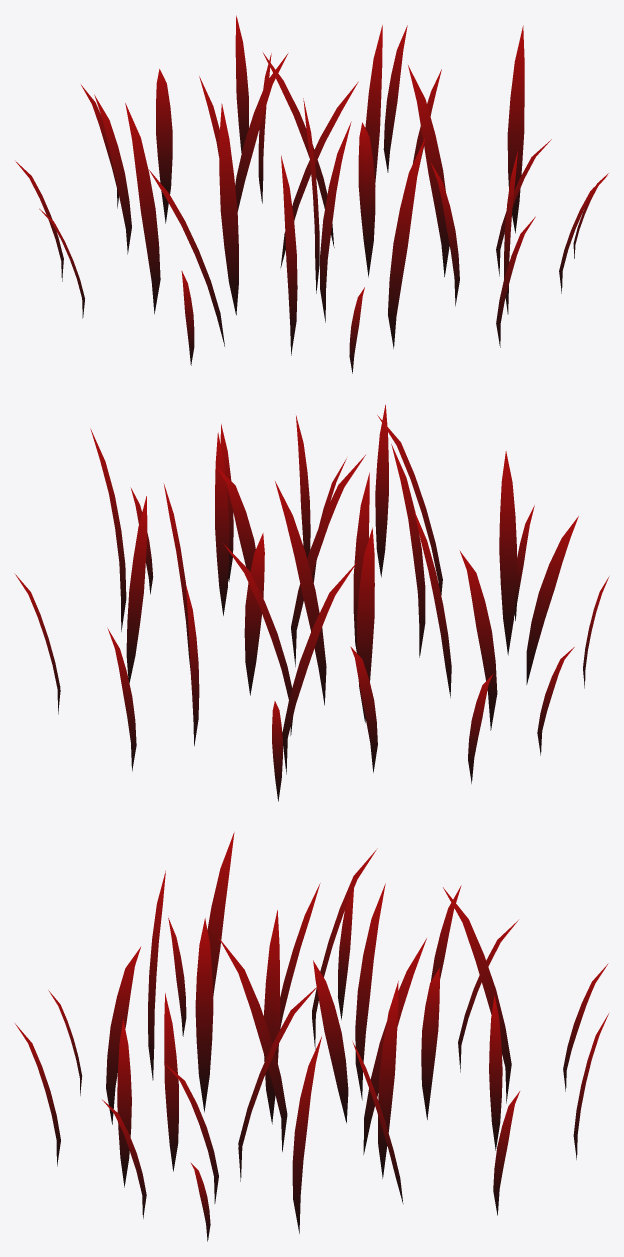
Rendered from Grass.fbx.
The picture shows the model from 3 angles, top to bottom: view 1: azimuth 30°, elevation 25°; view 2: azimuth 150°, elevation 25°; view 3: azimuth 270°, elevation 25°; orthographic projection. The views are drawn at different scales.
Parts seen in each view (by area): view 1: Grass; view 2: Grass; view 3: Grass.
Part boxes in pixels (x1,y1,x2,y2): Grass: (15, 15, 608, 373); Grass: (14, 404, 609, 801); Grass: (15, 832, 608, 1241).
Bounding box in the file's own units: 3.12 × 1.2 × 3.07.
